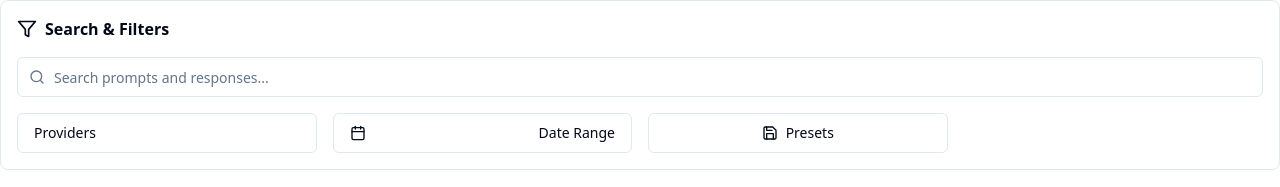
Test case: SearchFilterPanel › Search Input Functionality › should update input value as user types
Step 1. Type "t" into the field with placeholder "Search prompts and responses..." → (640, 77), box [17, 57, 1263, 97]
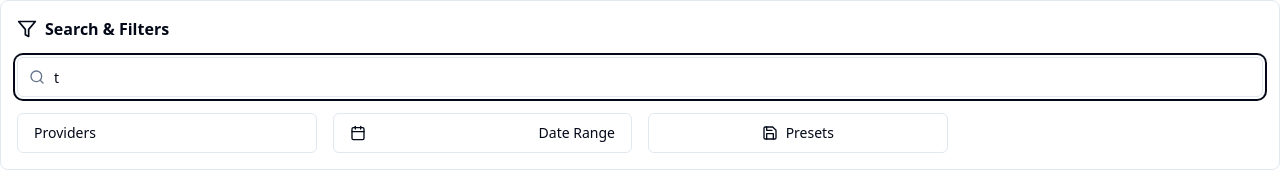
Step 2. Type "est" into the field with placeholder "Search prompts and responses..." → (640, 77), box [17, 57, 1263, 97]
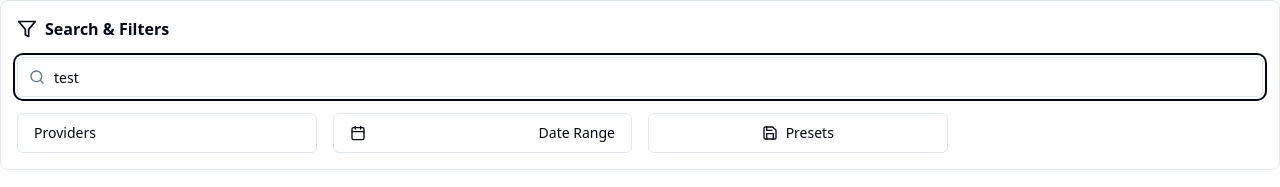
Result: the field with placeholder "Search prompts and responses..." holds "test" at [17, 57, 1263, 97]
